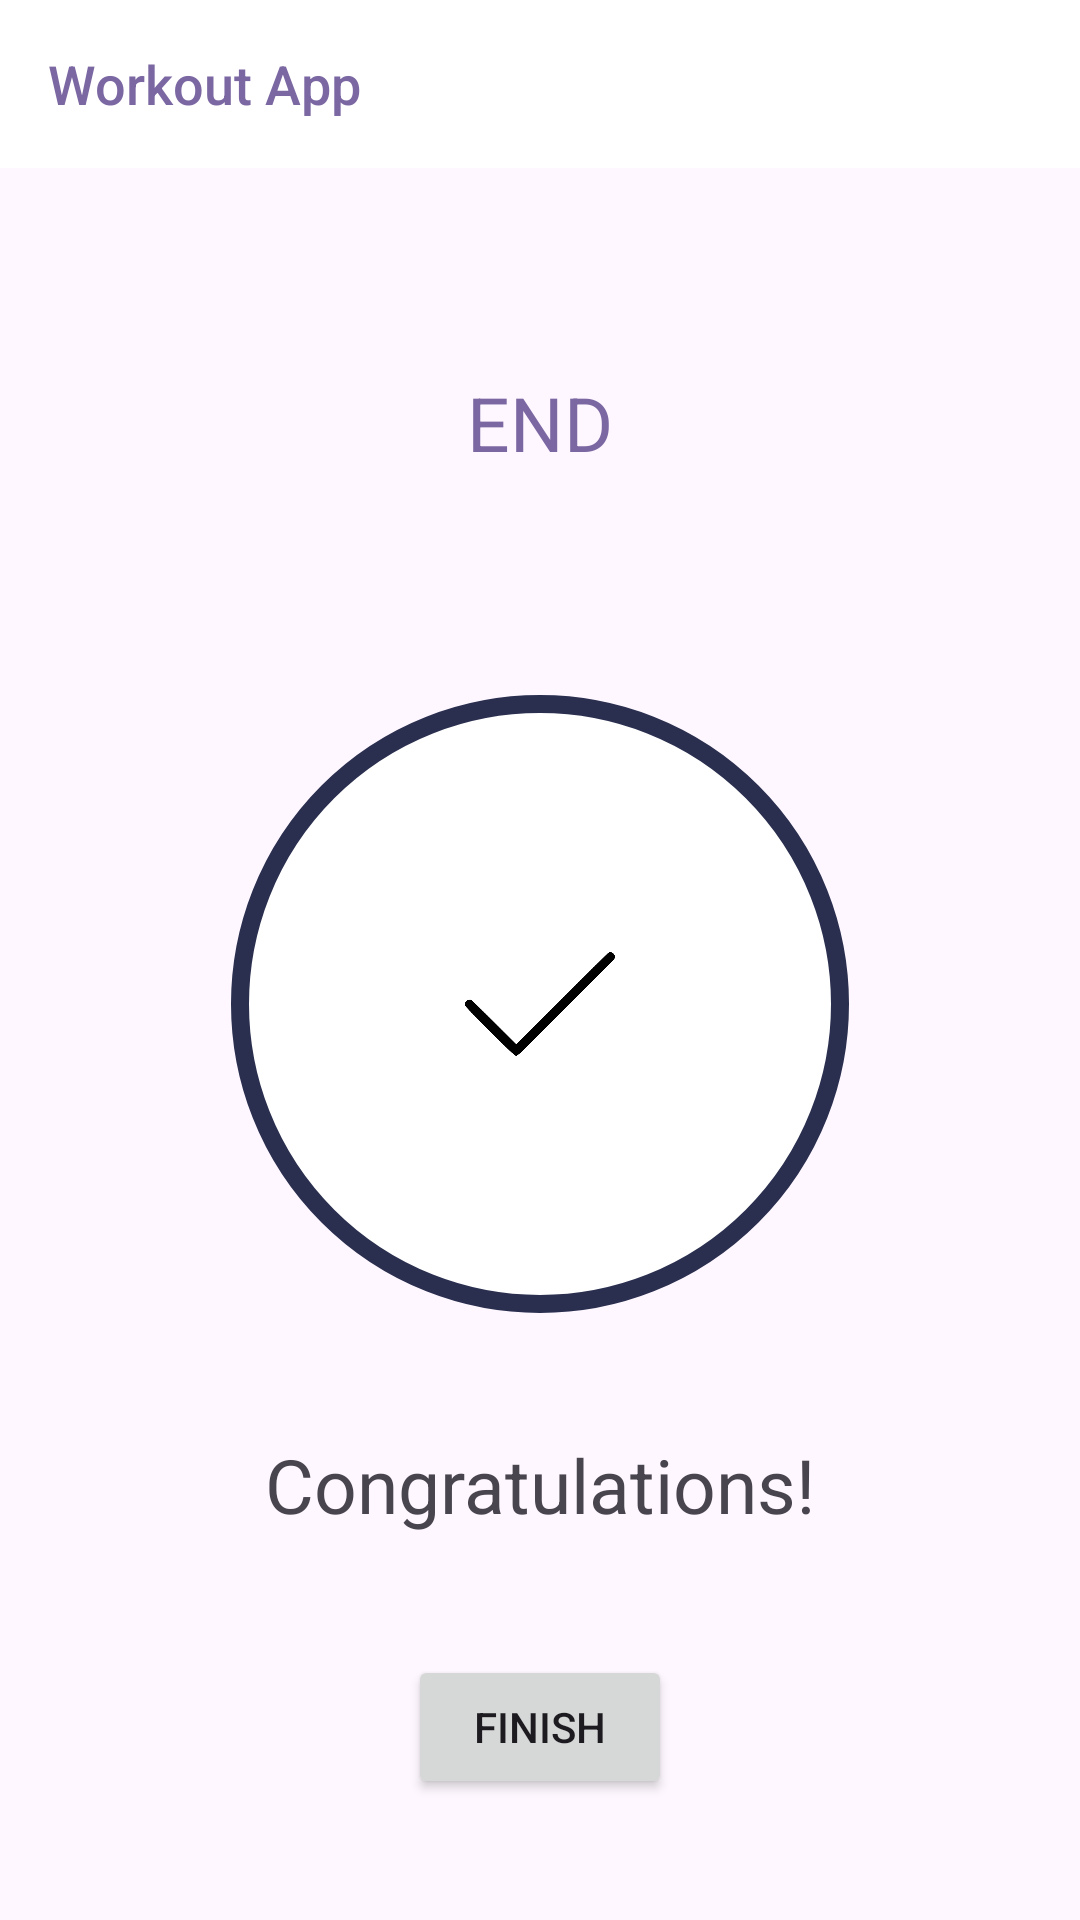

Locate icon controls on the screen. Image size 1080px x 1920px, boxes as bbox=[x1, y1, x2, y2].
tick: bbox=[465, 952, 615, 1056]
